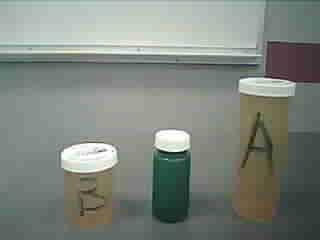Bottle A: (231, 72, 305, 229)
Bottle B: (55, 138, 124, 231)
Bottle C: (148, 124, 198, 229)
